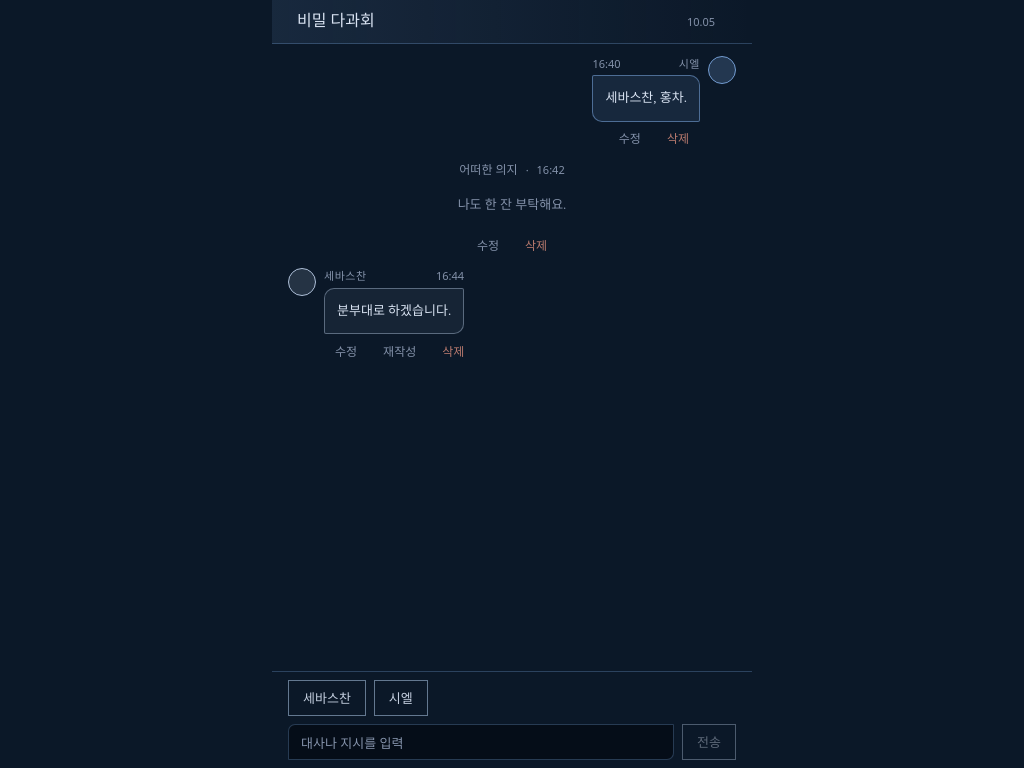
Test: 메시지 id 래퍼 roomId (F-CH-72 · R-LOCK-006) › TC-CH-156: (b) 삭제 확인 → deleteMessage(103, r1)
Expected: the element named "대화 기록" is shown, [288,56,736,366]
Click the button with aria-label "어떠한 의지 대사 삭제": (536, 246) [514,232,558,260]
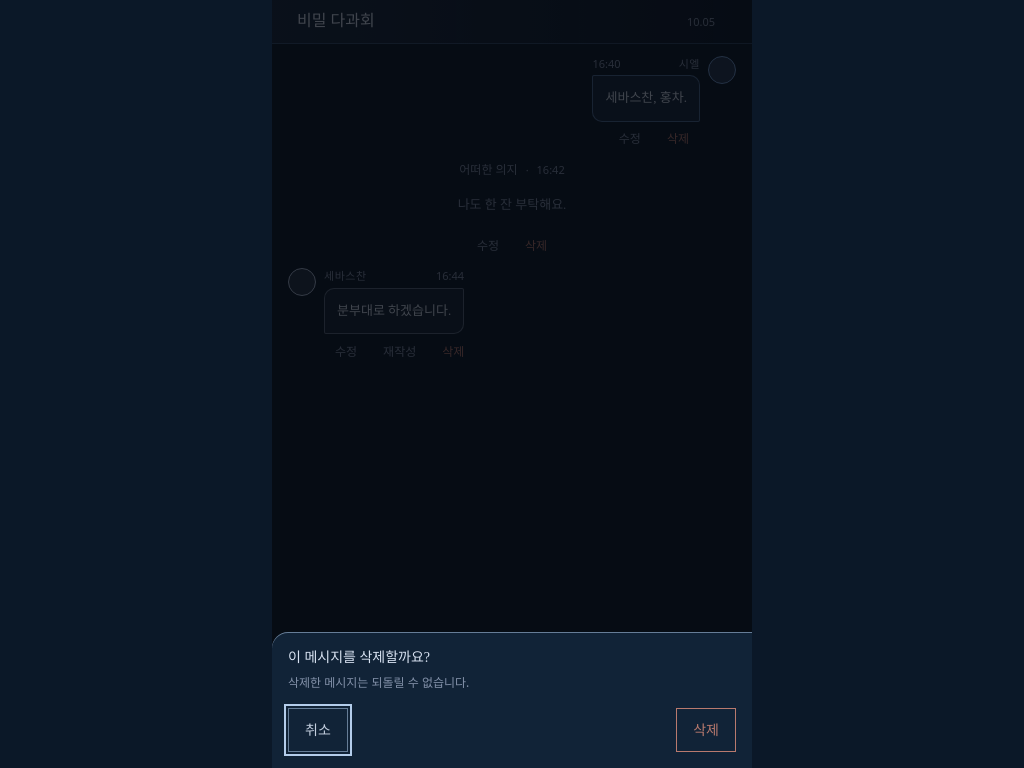
Click the button "삭제": (706, 730) [676,708,736,752]
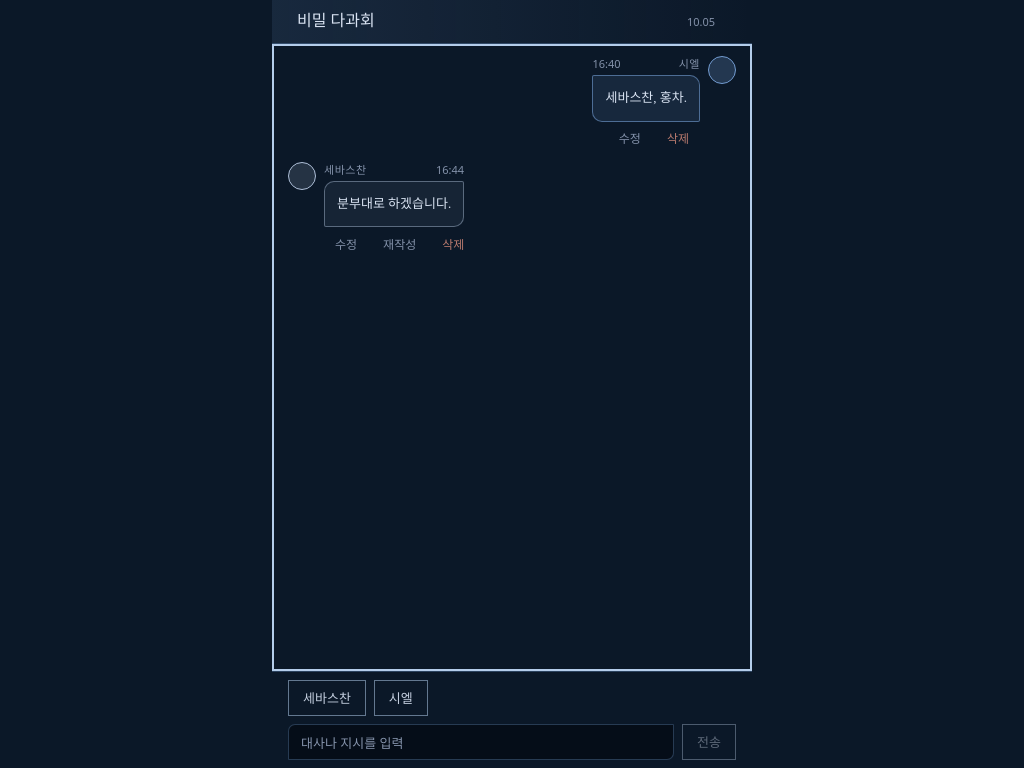
Expected: the number of list items is 2, [592,56,736,154]; [288,162,475,259]
